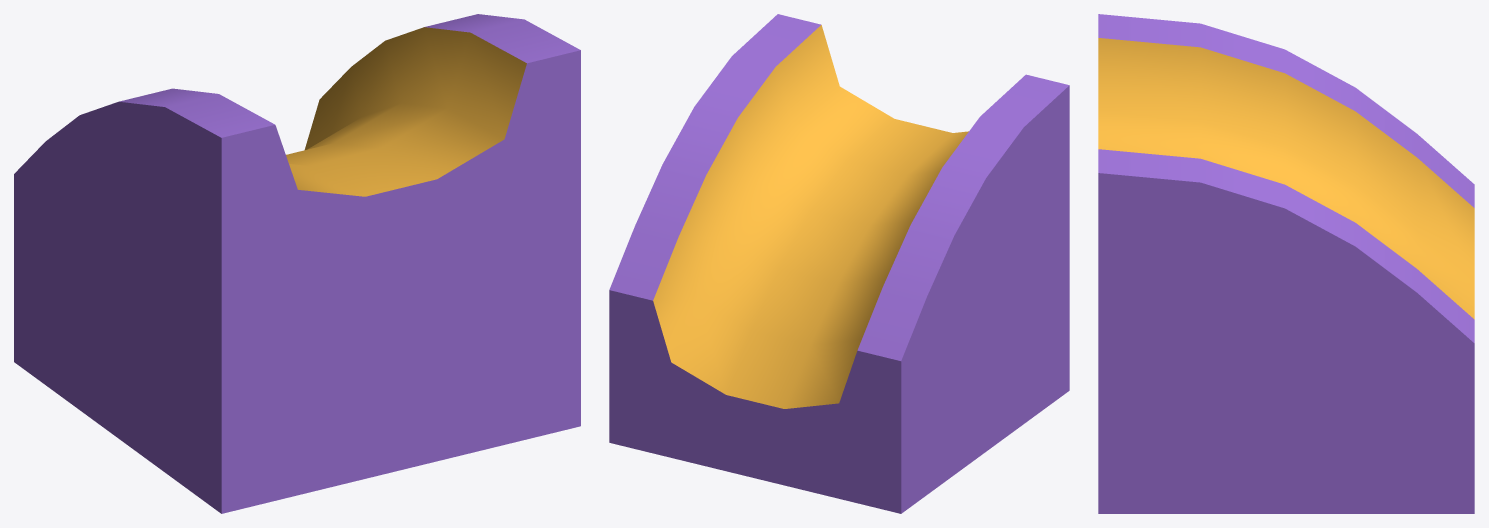
Rendered from kenney-marble-ramp-end-solid-c.glb.
3 renders of one model, left to right at view 1: azimuth 30°, elevation 25°; view 2: azimuth 150°, elevation 25°; view 3: azimuth 270°, elevation 25°, orthographic. The views are drawn at different scales.
Visible parts, largest first — view 1: ramp-end-solid-c; view 2: ramp-end-solid-c; view 3: ramp-end-solid-c.
Part boxes in pixels (<box>): ramp-end-solid-c: <box>14,14,580,513</box>; ramp-end-solid-c: <box>609,14,1069,513</box>; ramp-end-solid-c: <box>1098,14,1474,513</box>.
Bounding box in the file's own units: 1 × 1 × 1.
Materials: 1 (1 with a texture image).
